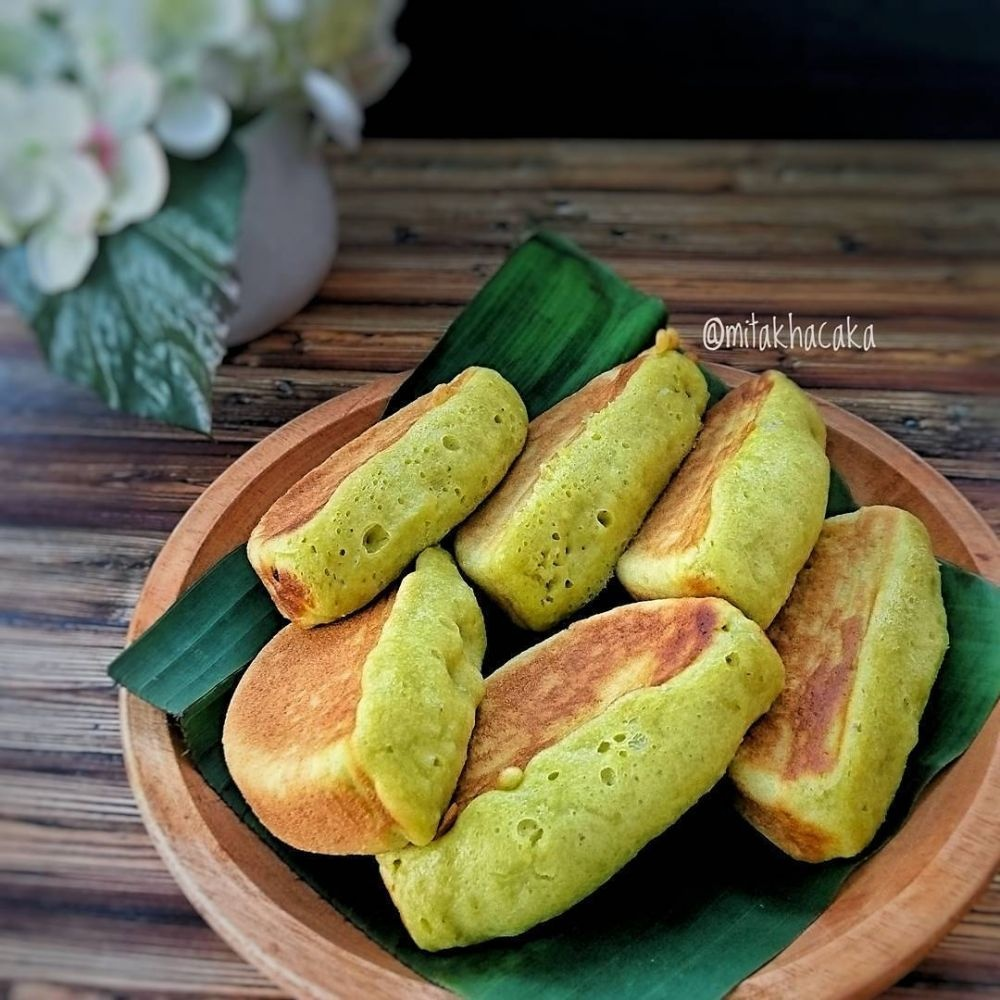pukis: (221, 579, 488, 863)
